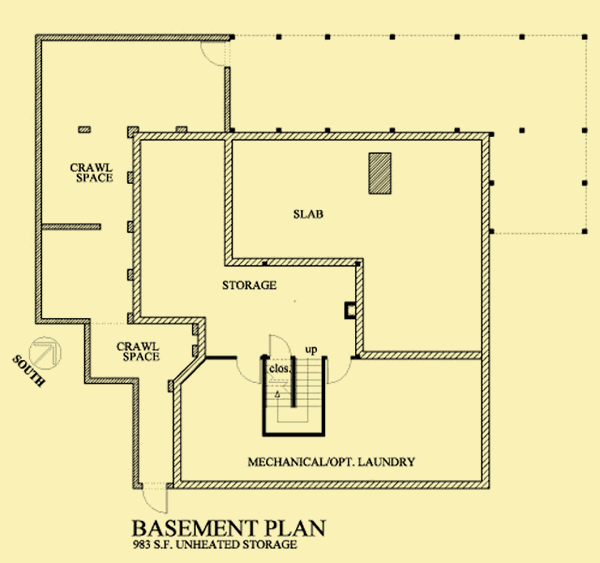door: (140, 483, 170, 516), (235, 357, 264, 389), (199, 40, 230, 67), (264, 334, 293, 361), (327, 357, 353, 384)
stairs: (263, 359, 323, 433)
